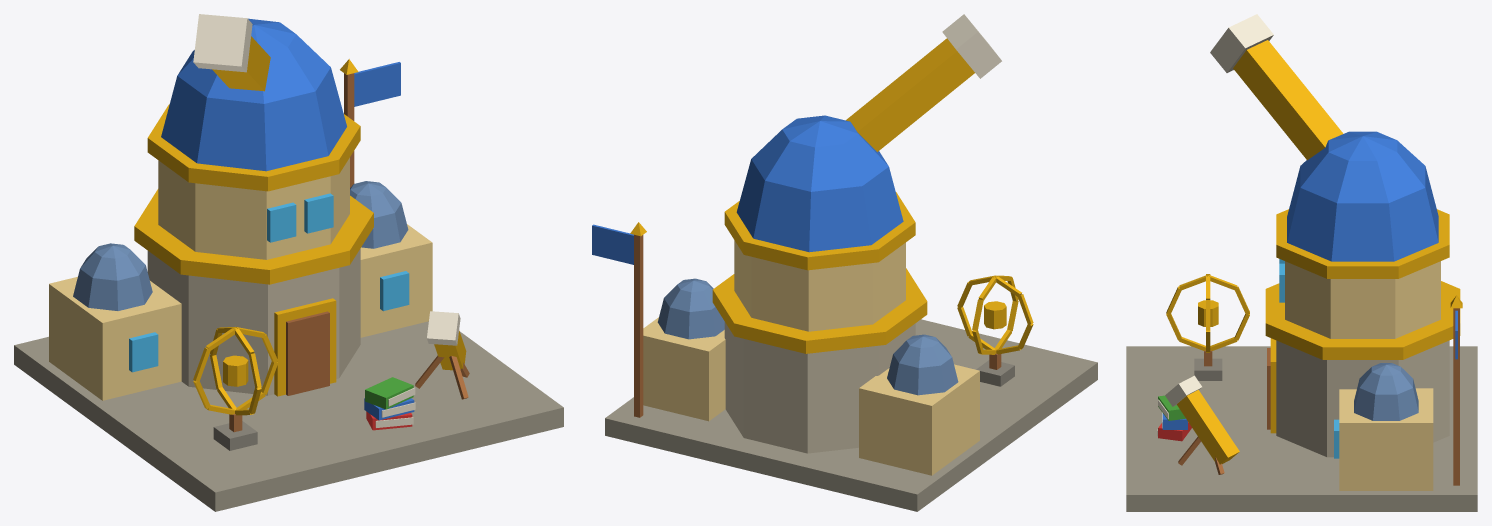
The model's file is observatory_t3_v1.glb.
3 views of the same model, side by side, from view 1: azimuth 30°, elevation 25°; view 2: azimuth 150°, elevation 25°; view 3: azimuth 270°, elevation 25° (orthographic). The views are drawn at different scales.
Parts seen in each view (by area): view 1: observatory_t3_v1; view 2: observatory_t3_v1; view 3: observatory_t3_v1.
Part boxes in pixels (<box>): observatory_t3_v1: <box>14,14,563,511</box>; observatory_t3_v1: <box>592,14,1097,511</box>; observatory_t3_v1: <box>1126,14,1477,511</box>.
Size of the model in its own units: 0.805 by 0.8816 by 0.75.
Materials: 1 (1 with a texture image).
